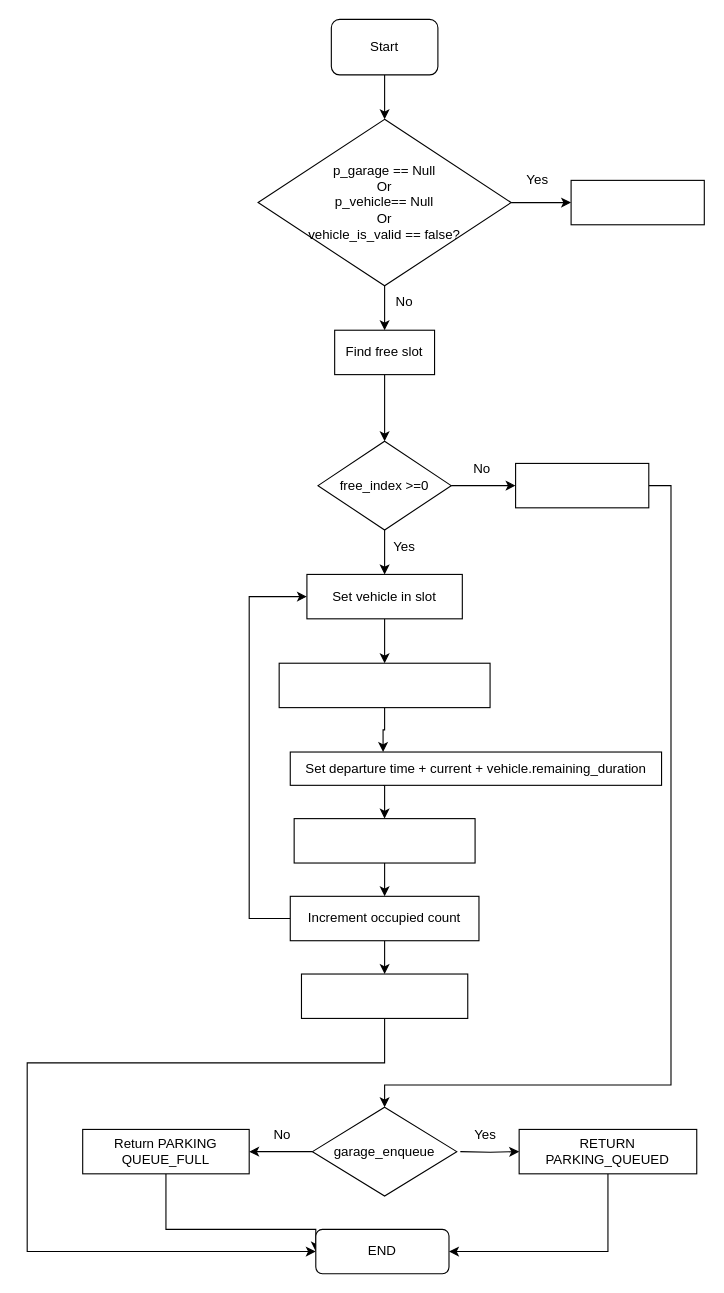
This 724x1293 diagram has some shape labels left out. Each missing label, with the centre of its shape:
"check queue" belongs at (581,485).
"PARKING_INVALID" belongs at (637,202).
"RETURN PARKING_SUCCESS" belongs at (384,995).
"Set entry time to current time" belongs at (384,685).
"Set occupied to true" belongs at (384,840).
